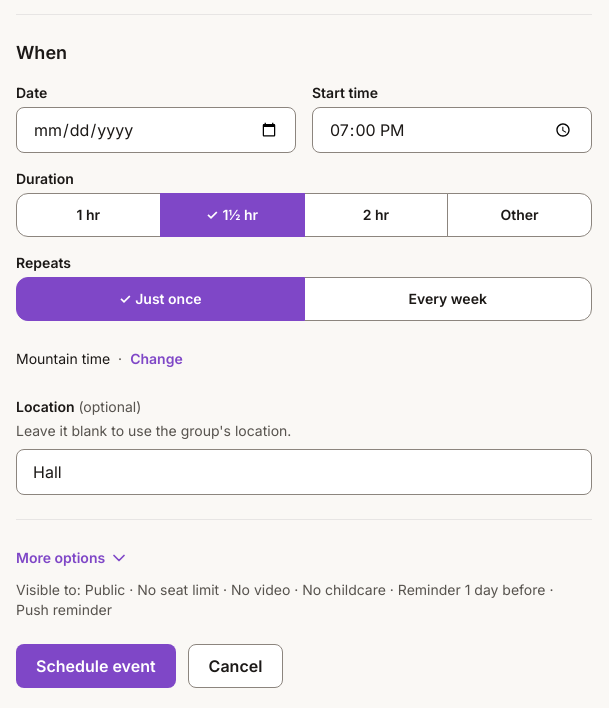
Scenario: NewEvent › starts with More options closed and a one-line summary of what is inside
(page scrolled)
Check: the text "Mountain time" is shown, box [16,349,110,369]
Check: the text "Visible to: Public · No seat limit · No video · No childcare · Reminder 1 day before · Push reminder" is shown, box [16,581,553,618]
Click the button "More options": [73, 558] box [16,536,129,580]
(page scrolled)
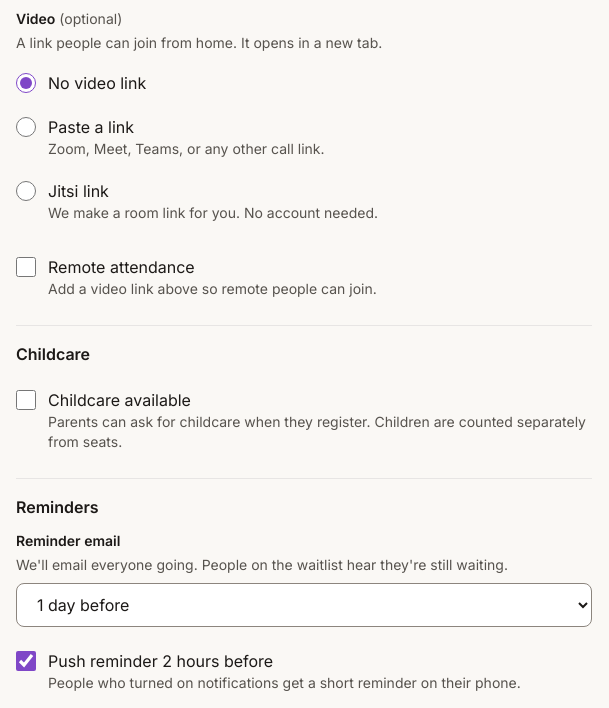
Check: the checkbox labelled "Childcare available" is shown, box [16,390,36,410]
